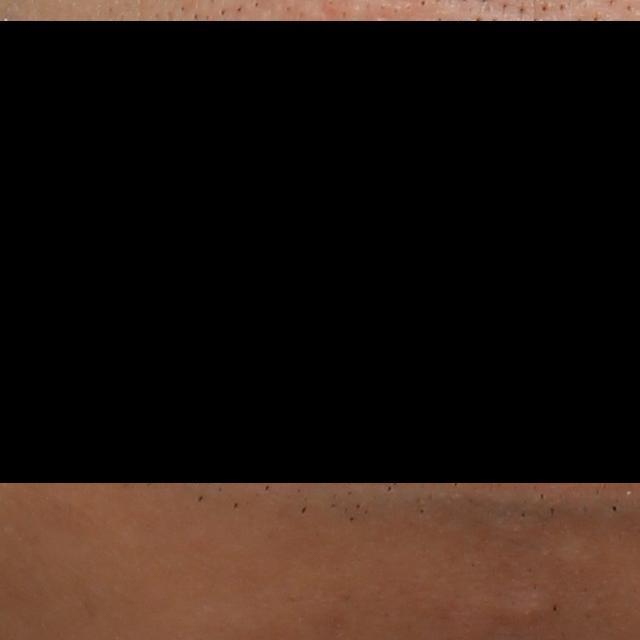hypertrophic_scar: (552, 530, 609, 570)
